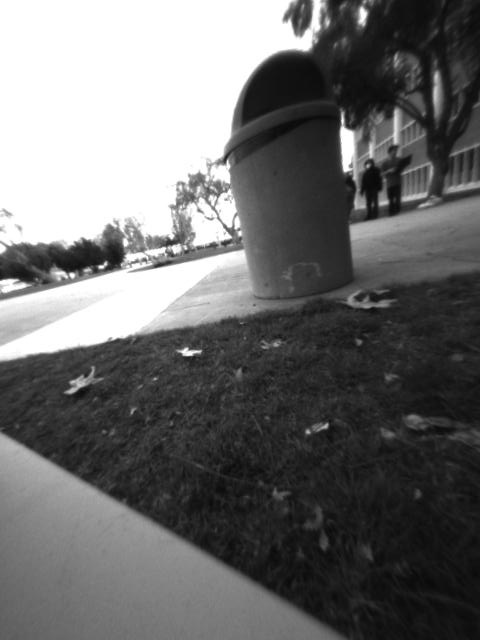trashcan: (225, 50, 358, 300)
